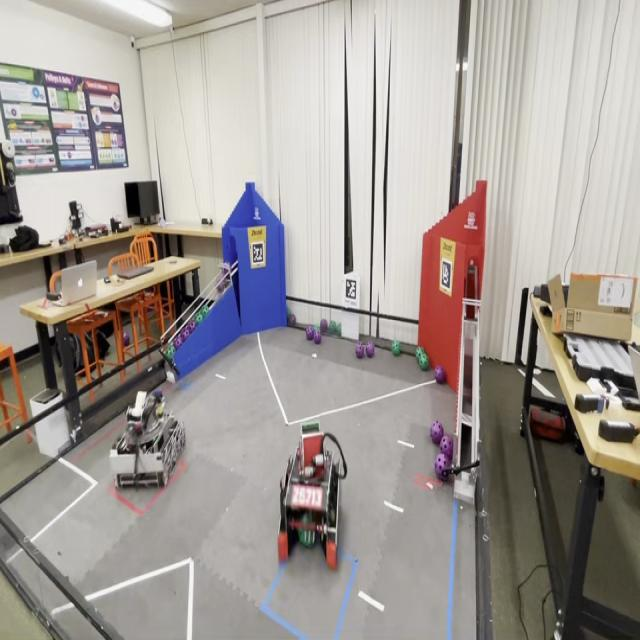artifact_green: (298, 527, 315, 547), (418, 355, 428, 370), (165, 345, 175, 360), (173, 334, 182, 350), (188, 319, 197, 334), (392, 341, 401, 356), (306, 325, 314, 341), (320, 318, 328, 333), (210, 290, 219, 303), (200, 304, 209, 317), (122, 331, 129, 347), (288, 313, 296, 327), (329, 320, 337, 334), (195, 311, 203, 325), (416, 347, 425, 359), (314, 330, 321, 344), (200, 309, 209, 319), (199, 310, 207, 321), (416, 352, 425, 361), (416, 354, 425, 363), (197, 309, 205, 319), (417, 355, 423, 368), (336, 323, 341, 336), (286, 306, 291, 319), (416, 347, 424, 355), (416, 354, 425, 361), (425, 354, 429, 368), (417, 347, 425, 353), (314, 324, 320, 331), (416, 354, 419, 361)
artifact_purple: (435, 453, 450, 481), (430, 420, 443, 445), (440, 435, 453, 458), (434, 366, 445, 383), (356, 342, 364, 359), (173, 336, 183, 349), (217, 279, 226, 293), (320, 318, 328, 333), (366, 342, 374, 357), (123, 331, 130, 347), (188, 320, 196, 334), (306, 325, 313, 340), (181, 328, 189, 341), (314, 330, 321, 344), (289, 313, 295, 327)
